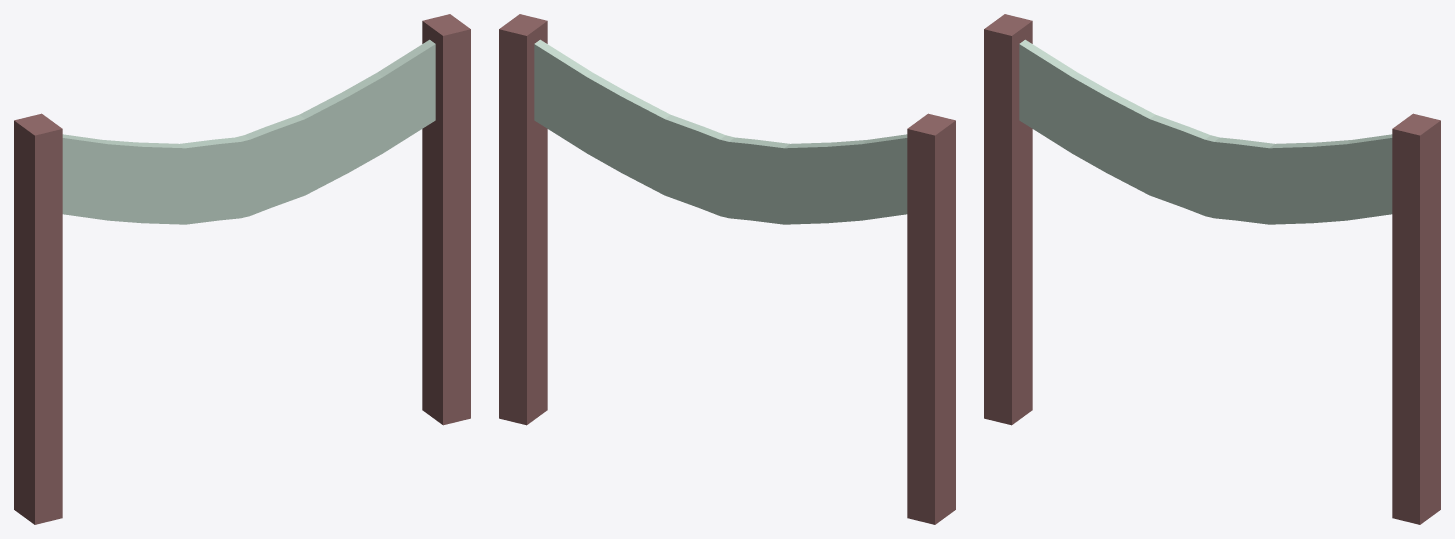
Rendered from StartModel.glb.
3 renders of one model, left to right at view 1: azimuth 30°, elevation 25°; view 2: azimuth 150°, elevation 25°; view 3: azimuth 330°, elevation 25°, orthographic.
Visible parts, largest first — view 1: Cube; view 2: Cube; view 3: Cube.
Boxes of the visible parts, box(x1,y1,x2,y2) form: Cube: box(14, 14, 470, 524); Cube: box(499, 14, 955, 524); Cube: box(984, 14, 1440, 524).
Bounding box in the file's own units: 3.52 × 3 × 0.2905.
1 material, 1 textured.
